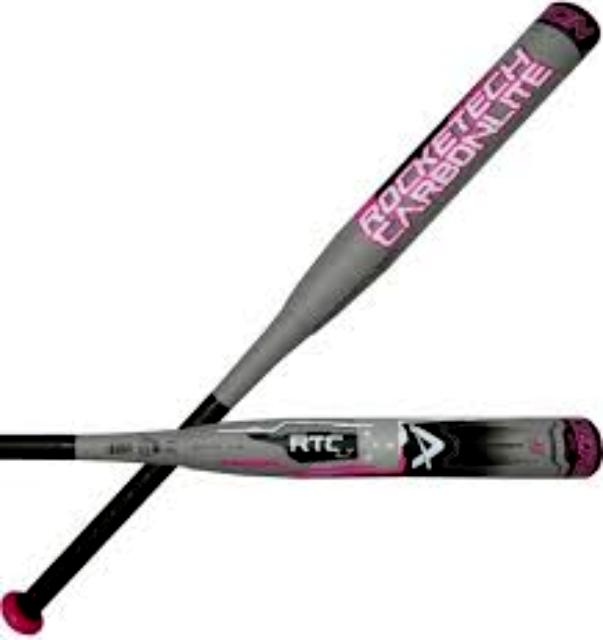baseball bat: (0, 0, 603, 634), (0, 414, 603, 478)
